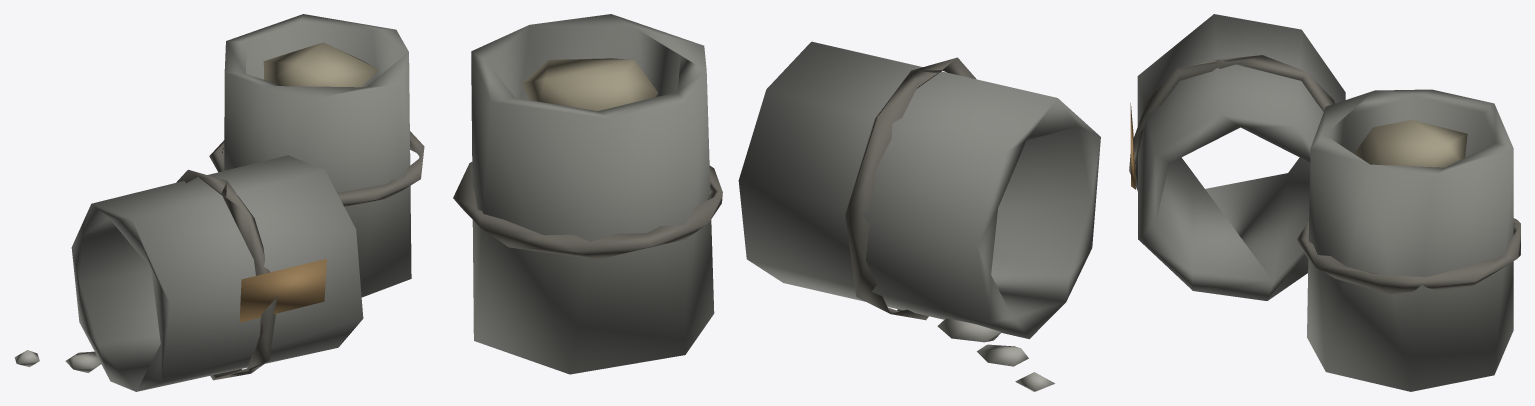
Rendered from culvert_pipe_b_lod2.glb.
3 views of the same model, side by side, from view 1: azimuth 30°, elevation 25°; view 2: azimuth 150°, elevation 25°; view 3: azimuth 270°, elevation 25° (orthographic). The views are drawn at different scales.
Visible parts, largest first — view 1: Surface.001; view 2: Surface.001; view 3: Surface.001.
Boxes of the visible parts, bbox=[...] form: Surface.001: bbox=[14, 14, 424, 391]; Surface.001: bbox=[453, 14, 1100, 391]; Surface.001: bbox=[1129, 14, 1520, 391].
Bounding box in the file's own units: 3.04 × 1.49 × 2.28.
